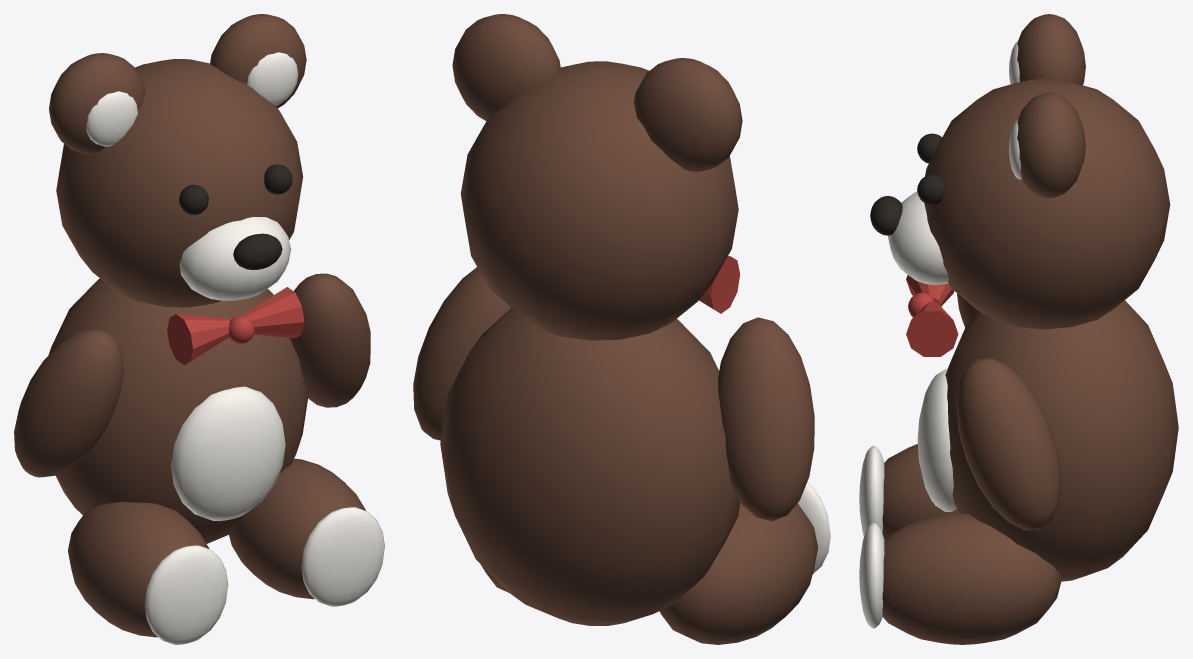
The model's file is hh_cat_teddy.glb.
3 renders of one model, left to right at view 1: azimuth 30°, elevation 25°; view 2: azimuth 150°, elevation 25°; view 3: azimuth 270°, elevation 25°, orthographic. The views are drawn at different scales.
Parts seen in each view (by area): view 1: head, body, tummy, arm, leg, leg.001, arm.001, foot_pad.001, foot_pad, muzzle, ear, ear.001 (+8 smaller); view 2: body, head, arm, leg, ear, ear.001, arm.001, foot_pad, bow; view 3: head, body, leg.001, arm.001, ear.001, ear, tummy, leg, muzzle, foot_pad.001, bow.001, foot_pad (+5 smaller).
Part boxes in pixels (<box>): head: <box>56,59,303,307</box>; body: <box>48,278,308,543</box>; tummy: <box>171,386,285,520</box>; arm: <box>14,329,123,477</box>; leg: <box>68,501,209,637</box>; leg.001: <box>229,458,365,599</box>; arm.001: <box>290,273,370,407</box>; foot_pad.001: <box>301,507,384,606</box>; foot_pad: <box>144,545,228,644</box>; muzzle: <box>179,217,291,300</box>; ear: <box>49,53,145,154</box>; ear.001: <box>210,14,306,108</box>; body: <box>440,308,740,625</box>; head: <box>460,61,738,340</box>; arm: <box>718,317,814,521</box>; leg: <box>659,502,818,644</box>; ear: <box>634,58,742,172</box>; ear.001: <box>452,14,560,120</box>; arm.001: <box>413,267,511,440</box>; foot_pad: <box>798,482,830,574</box>; bow: <box>699,256,740,313</box>; head: <box>924,78,1170,329</box>; body: <box>945,300,1178,581</box>; leg.001: <box>882,513,1061,644</box>; arm.001: <box>956,358,1061,530</box>; ear.001: <box>1017,92,1085,198</box>; ear: <box>1017,14,1085,85</box>; tummy: <box>917,369,956,511</box>; leg: <box>882,444,959,539</box>; muzzle: <box>888,191,948,284</box>; foot_pad.001: <box>859,522,884,628</box>; bow.001: <box>906,301,958,356</box>; foot_pad: <box>859,445,884,536</box>.
Bounding box in the file's own units: 0.2 × 0.3 × 0.16.
